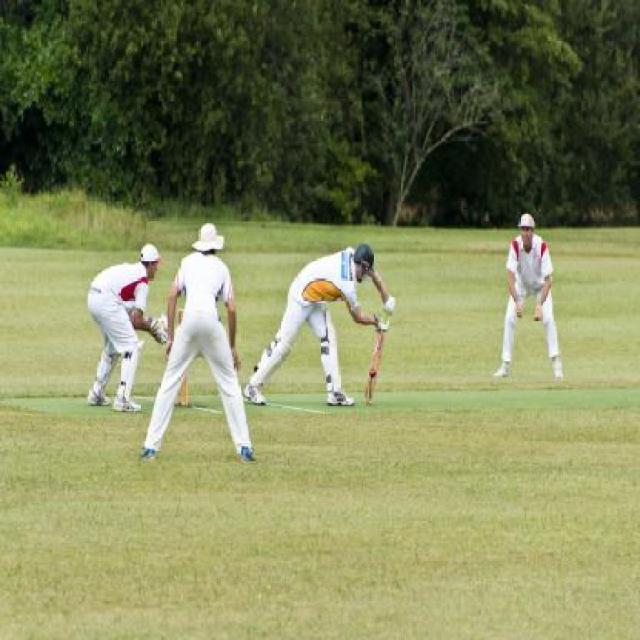-: (369, 361, 376, 387)
